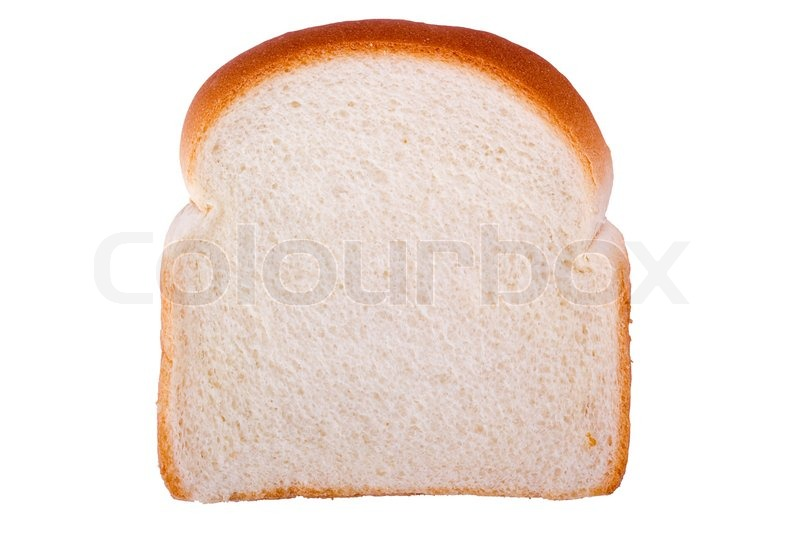slice of bread: (157, 22, 630, 500)
